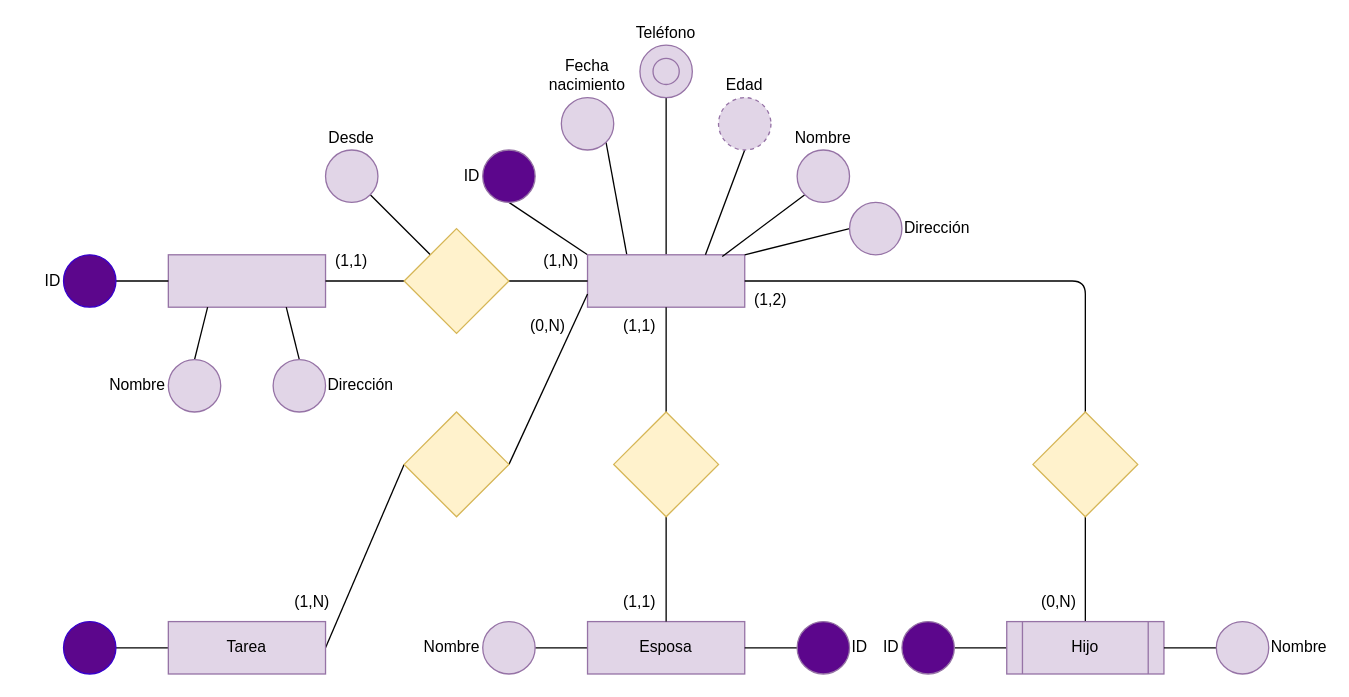
This 1349x697 diagram has some shape labels left out. The centre of each missing label's shape, as x and y in pixels:
casado con: the point at 665,464
Color: the point at 89,647
Compañía: the point at 246,280
Personal: the point at 665,280
realiza: the point at 456,464
tiene: the point at 1085,464
trabaja: the point at 456,280
